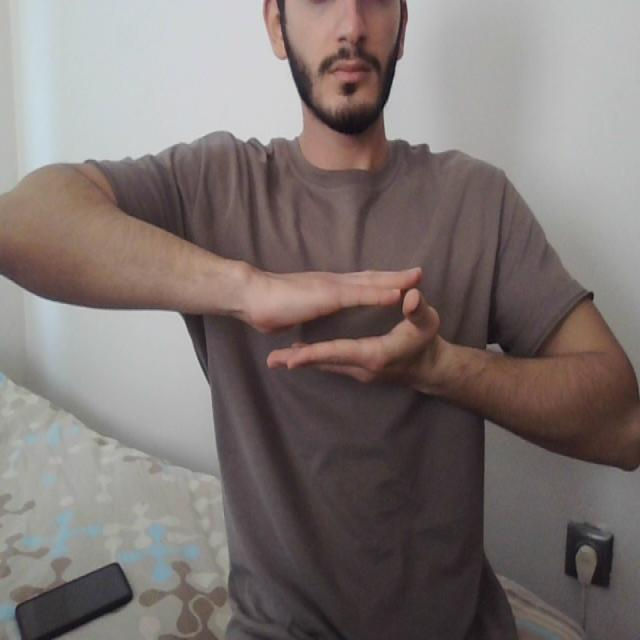Arkadas: (148, 252, 528, 403)
